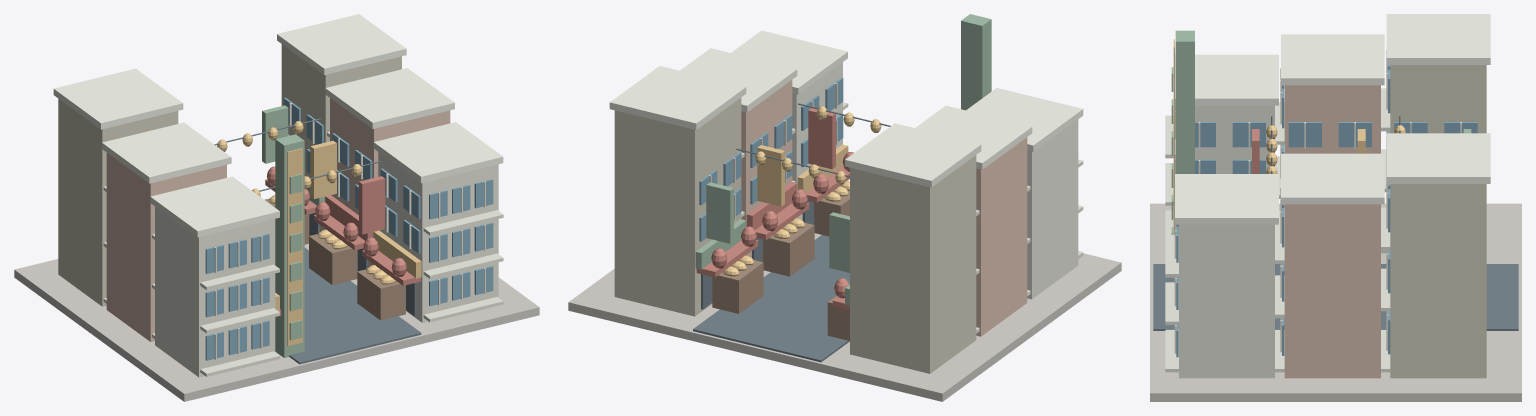
File: dot-P04.glb
3 renders of one model, left to right at view 1: azimuth 30°, elevation 25°; view 2: azimuth 150°, elevation 25°; view 3: azimuth 270°, elevation 25°, orthographic. The views are drawn at different scales.
Parts seen in each view (by area): view 1: pave; view 2: pave; view 3: pave.
Part boxes in pixels (x1,y1,x2,y2): pave: [14, 14, 539, 401]; pave: [568, 14, 1121, 401]; pave: [1150, 14, 1521, 401].
Size of the model in its own units: 6.08 by 3.61 by 5.04.
Materials: 1 (1 with a texture image).
